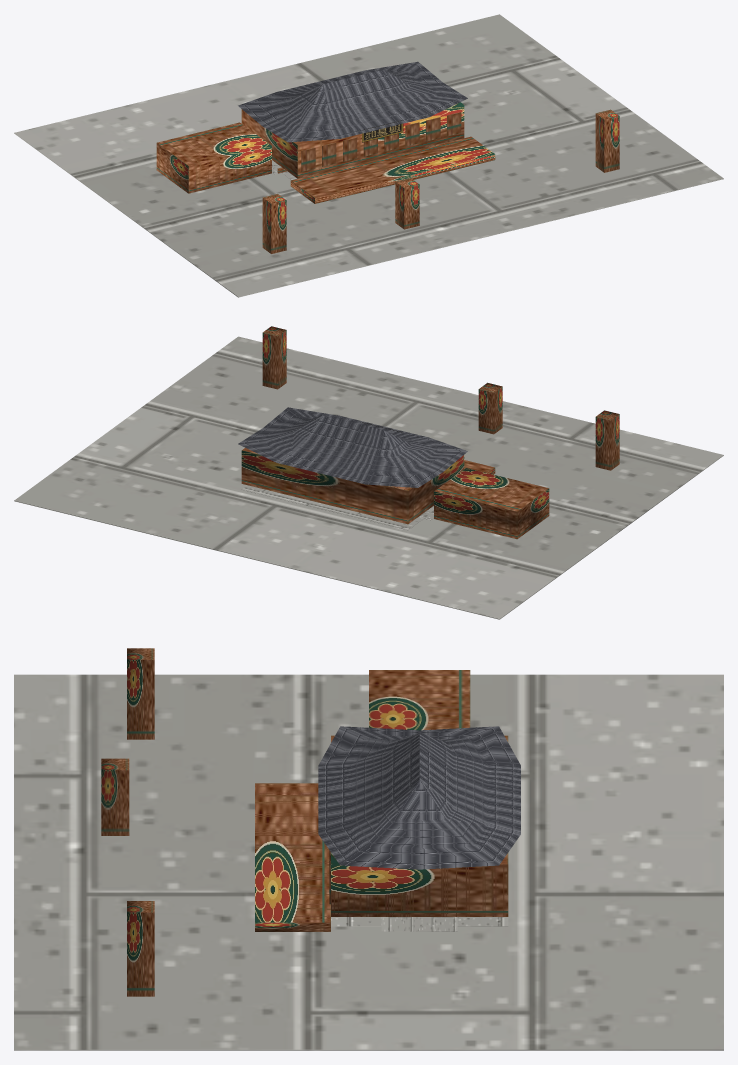
3 views of the same model, one above another, from view 1: azimuth 30°, elevation 25°; view 2: azimuth 150°, elevation 25°; view 3: azimuth 270°, elevation 25° (orthographic). The views are drawn at different scales.
Visible parts, largest first — view 1: 11140_02_04605_047_01_L2__base, 11140_02_04605_047_02_L2__body, 11140_02_04605_047_03_L2__roof, 11140_02_04605_047_06_L2__green, 11140_02_04605_047_05_L2__openings; view 2: 11140_02_04605_047_01_L2__base, 11140_02_04605_047_02_L2__body, 11140_02_04605_047_03_L2__roof, 11140_02_04605_047_06_L2__green; view 3: 11140_02_04605_047_01_L2__base, 11140_02_04605_047_03_L2__roof, 11140_02_04605_047_02_L2__body, 11140_02_04605_047_06_L2__green.
Part boxes in pixels (x1,y1,x2,y2): 11140_02_04605_047_01_L2__base: (14, 14, 723, 297); 11140_02_04605_047_02_L2__body: (156, 102, 495, 203); 11140_02_04605_047_03_L2__roof: (238, 61, 467, 142); 11140_02_04605_047_06_L2__green: (262, 109, 619, 253); 11140_02_04605_047_05_L2__openings: (277, 112, 461, 173); 11140_02_04605_047_01_L2__base: (14, 336, 723, 619); 11140_02_04605_047_02_L2__body: (241, 448, 549, 539); 11140_02_04605_047_03_L2__roof: (238, 407, 467, 487); 11140_02_04605_047_06_L2__green: (262, 326, 619, 470); 11140_02_04605_047_01_L2__base: (14, 674, 723, 1050); 11140_02_04605_047_03_L2__roof: (318, 726, 520, 869); 11140_02_04605_047_02_L2__body: (255, 670, 508, 931); 11140_02_04605_047_06_L2__green: (101, 648, 154, 996).
Size of the model in its own units: 70 by 9.3 by 56.
5 materials, 5 textured.
